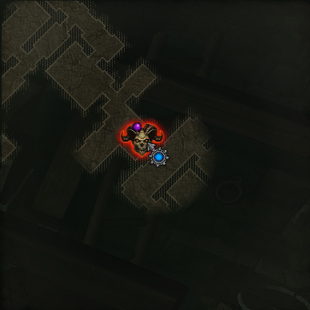Guardian: (119, 120, 167, 161)
